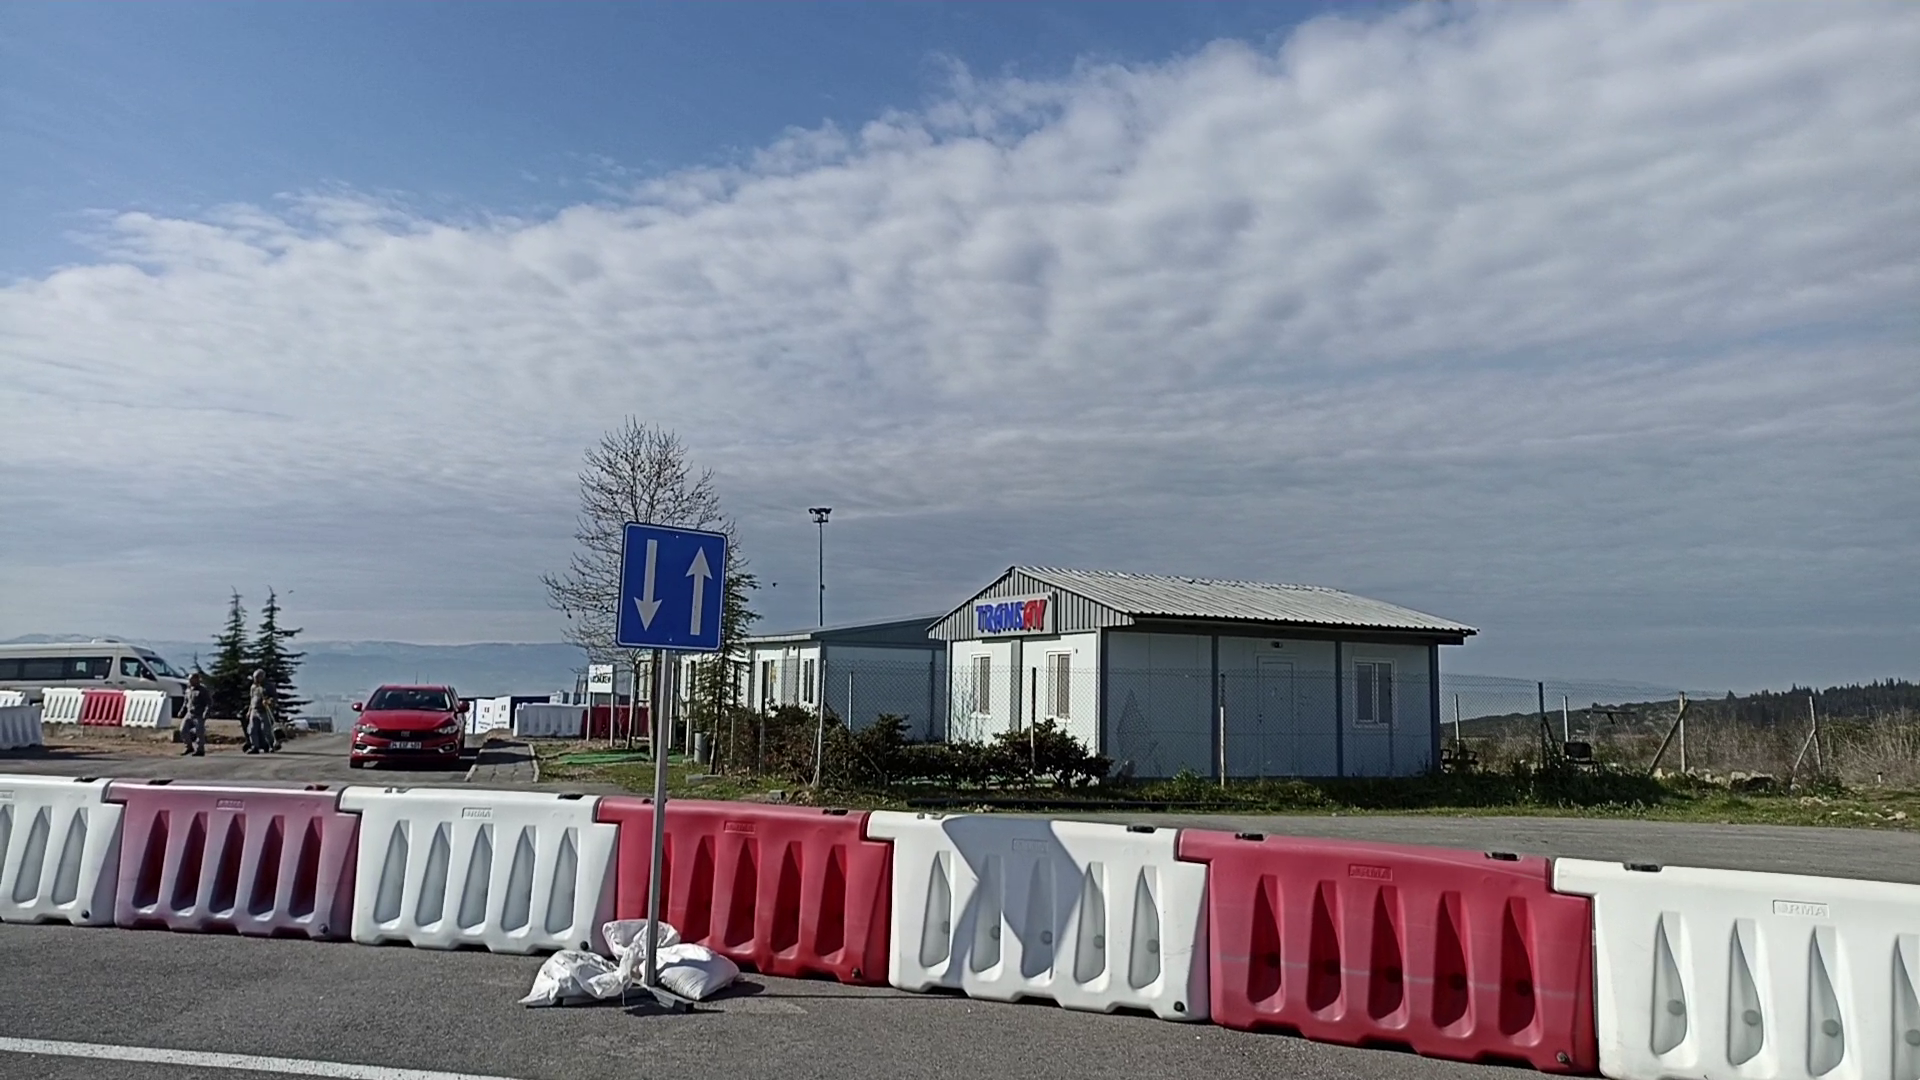oneway: (615, 520, 731, 659)
